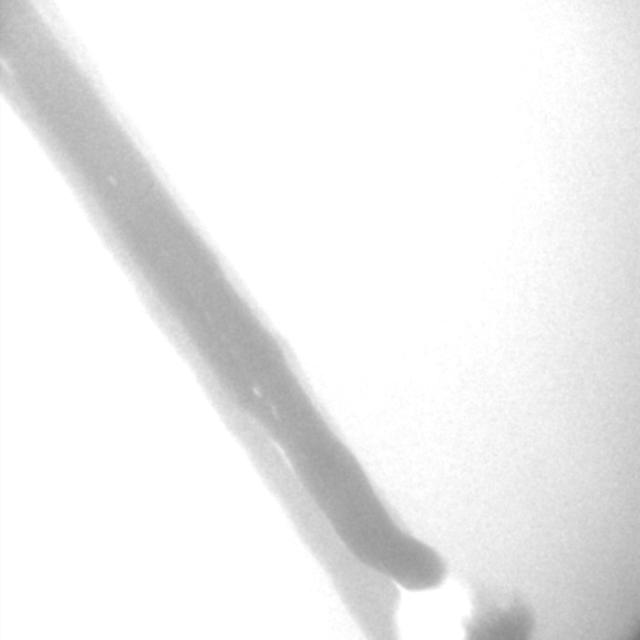air hole: (250, 386, 261, 397), (107, 174, 117, 185)
broken arc: (258, 430, 469, 637)
